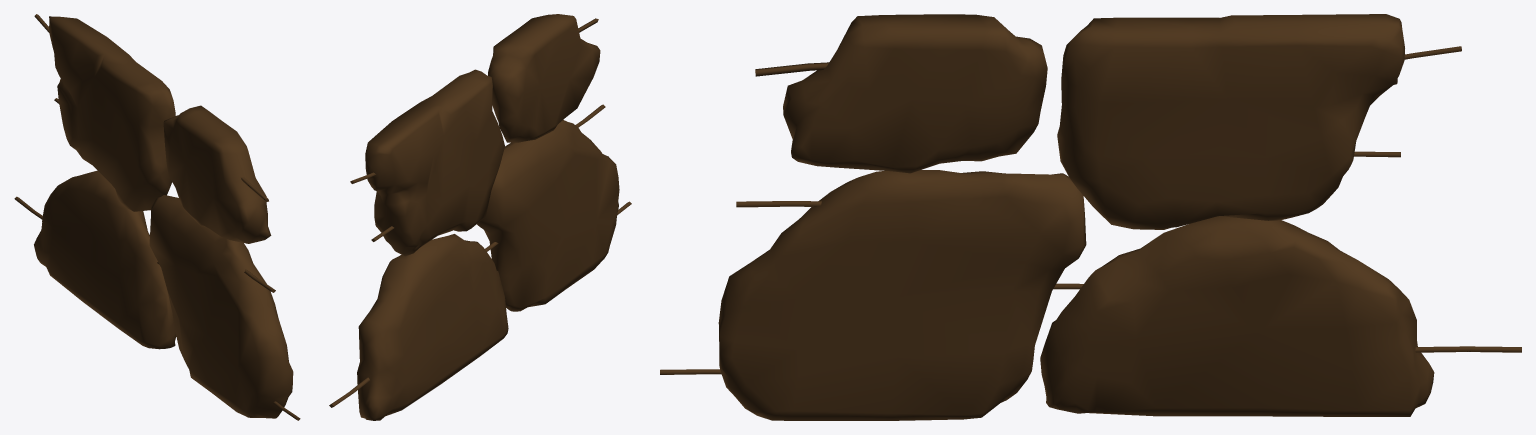
File: Fence_Concrete_slab_g.FBX
3 renders of one model, left to right at view 1: azimuth 30°, elevation 25°; view 2: azimuth 150°, elevation 25°; view 3: azimuth 270°, elevation 25°, orthographic. The views are drawn at different scales.
Parts seen in each view (by area): view 1: Fence_Concrete_slab_g_LOD0; view 2: Fence_Concrete_slab_g_LOD0; view 3: Fence_Concrete_slab_g_LOD0.
Part boxes in pixels (left/top/right/bottom): Fence_Concrete_slab_g_LOD0: left=14, top=14, right=300, bottom=420; Fence_Concrete_slab_g_LOD0: left=329, top=14, right=631, bottom=420; Fence_Concrete_slab_g_LOD0: left=660, top=14, right=1521, bottom=420.
Size of what is drawn, in the model's own units: 12.99 by 80.02 by 160.
